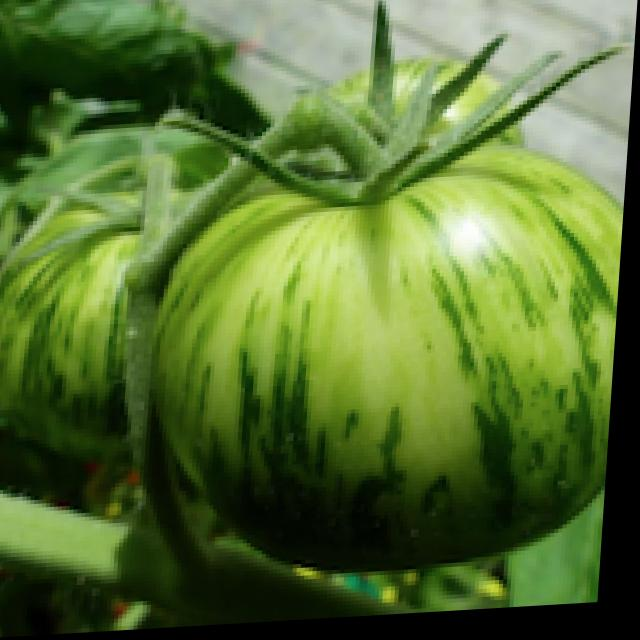yesil: (0, 27, 637, 616)
